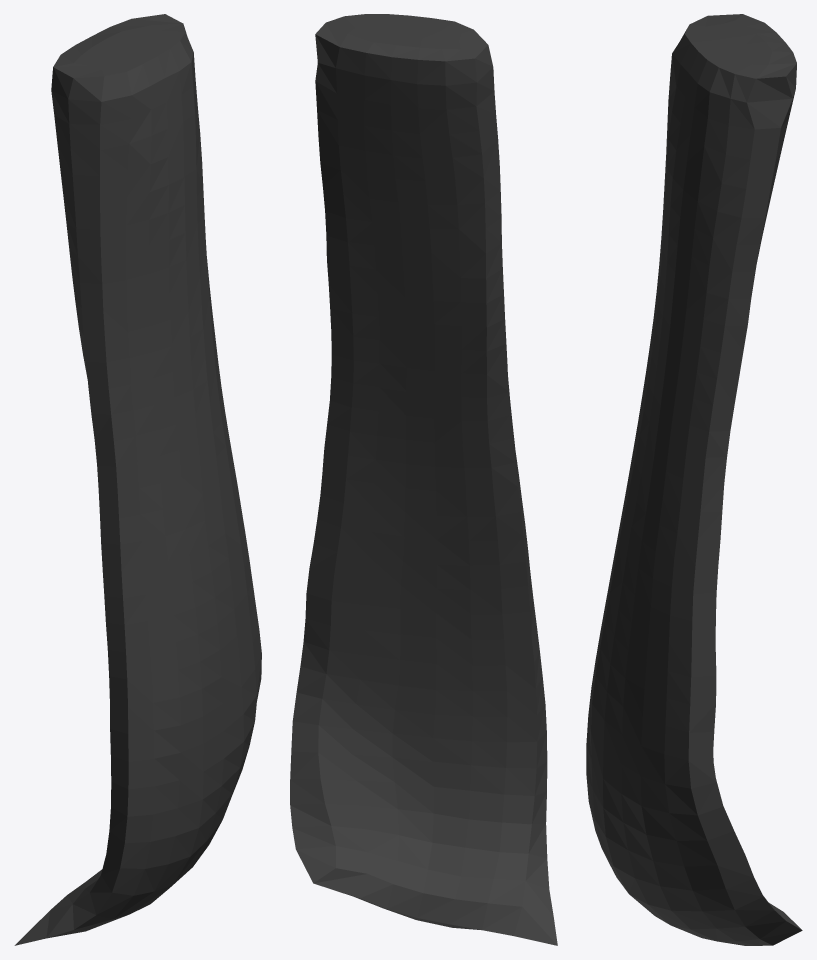
The model's file is LDE.glb.
3 renders of one model, left to right at view 1: azimuth 30°, elevation 25°; view 2: azimuth 150°, elevation 25°; view 3: azimuth 270°, elevation 25°, orthographic. The views are drawn at different scales.
Visible parts, largest first — view 1: LDE; view 2: LDE; view 3: LDE.
Part boxes in pixels (left/top/right/bottom): LDE: left=14, top=14, right=261, bottom=945; LDE: left=290, top=14, right=557, bottom=945; LDE: left=586, top=14, right=802, bottom=945.
Bounding box in the file's own units: 0.5848 × 1.97 × 0.4238.
Materials: 1 (1 with a texture image).
